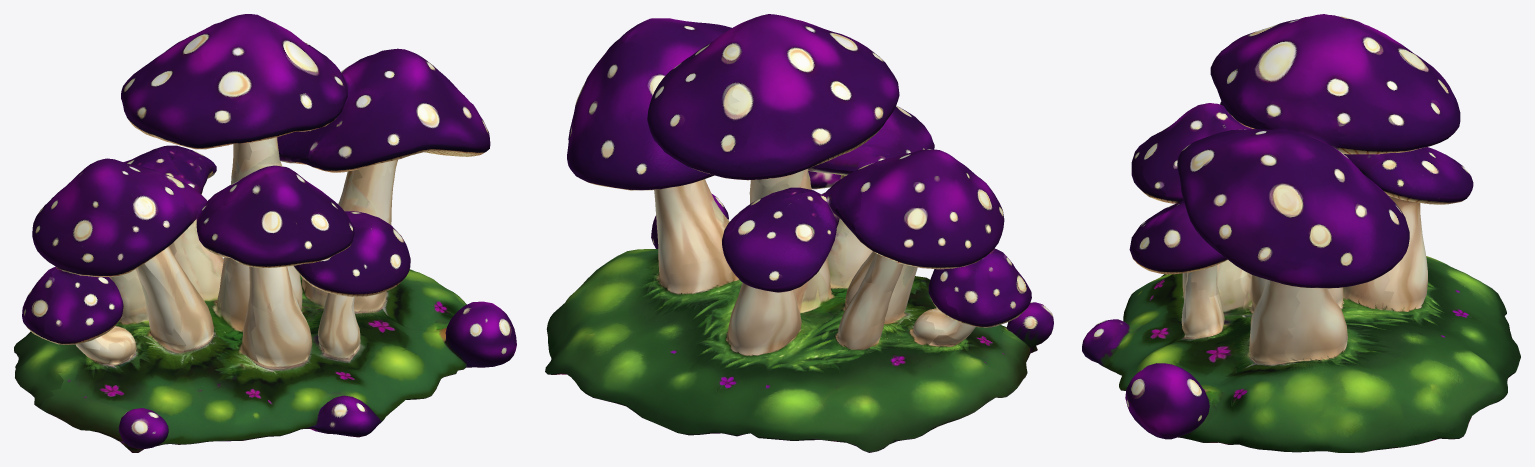
Rendered from mushroom.glb.
The picture shows the model from 3 angles, left to right: view 1: azimuth 30°, elevation 25°; view 2: azimuth 150°, elevation 25°; view 3: azimuth 270°, elevation 25°; orthographic projection. The views are drawn at different scales.
Bounding box in the file's own units: 1.87 × 1.37 × 1.59.
Materials: 1 (1 with a texture image).
